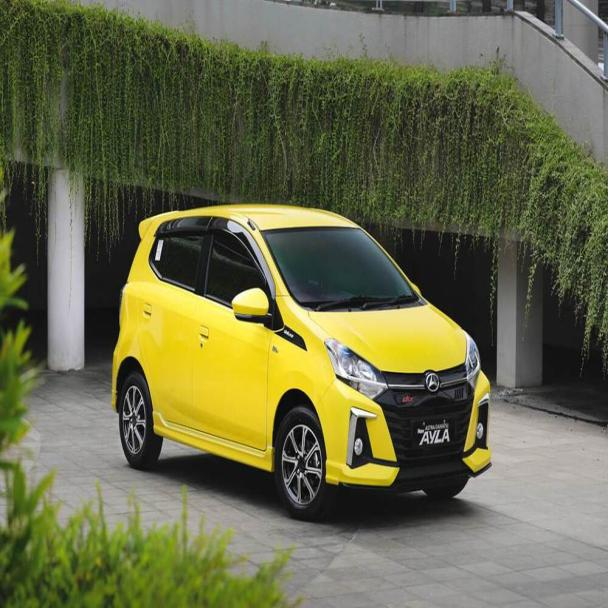Mobil: (112, 212, 492, 517)
